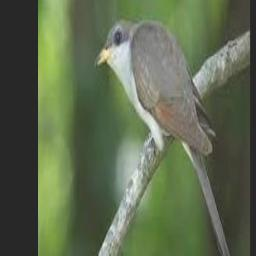Cuckoo: (95, 17, 235, 256)
